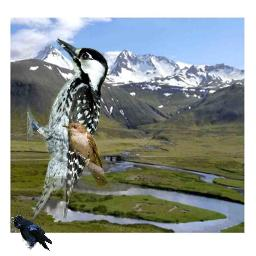Crow: (10, 215, 52, 251)
Cuckoo: (61, 121, 107, 187)
Woodpecker: (27, 37, 108, 221)
